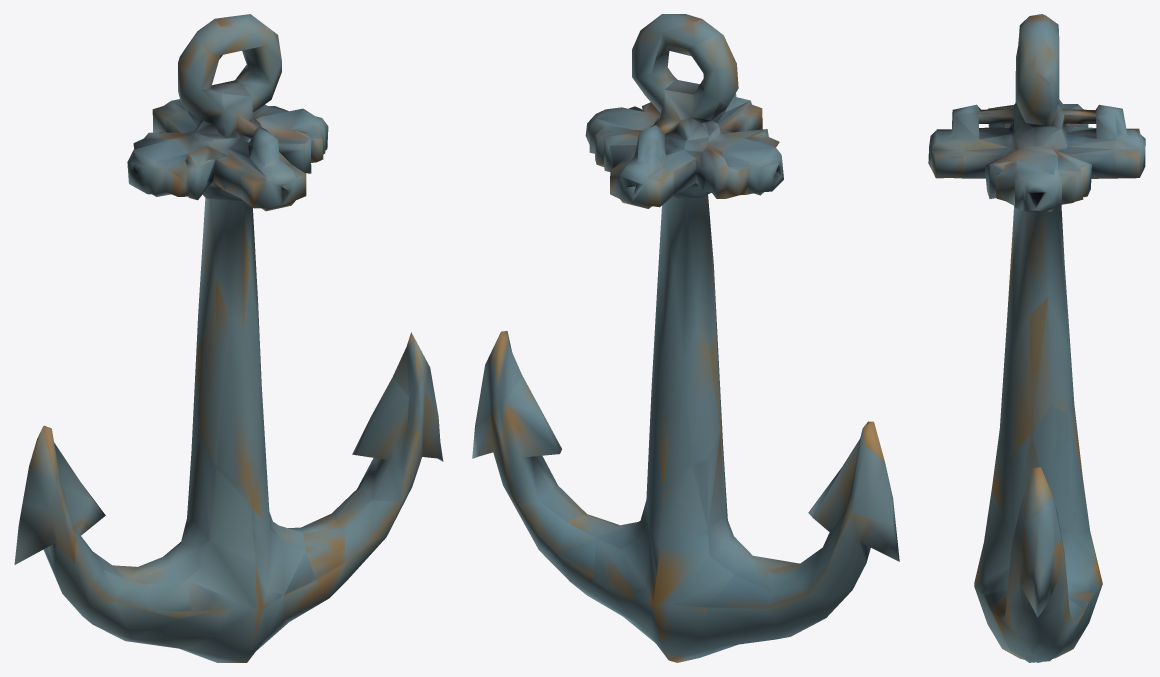
The model's file is AnchorModel_0.1mb.fbx.
3 views of the same model, side by side, from view 1: azimuth 30°, elevation 25°; view 2: azimuth 150°, elevation 25°; view 3: azimuth 270°, elevation 25° (orthographic).
Parts seen in each view (by area): view 1: Mesh_0; view 2: Mesh_0; view 3: Mesh_0.
Part boxes in pixels (x1,y1,x2,y2): Mesh_0: (14, 14, 443, 662); Mesh_0: (472, 14, 899, 662); Mesh_0: (928, 14, 1145, 662).
Bounding box in the file's own units: 140 × 200 × 61.61.
Materials: 1 (1 with a texture image).
